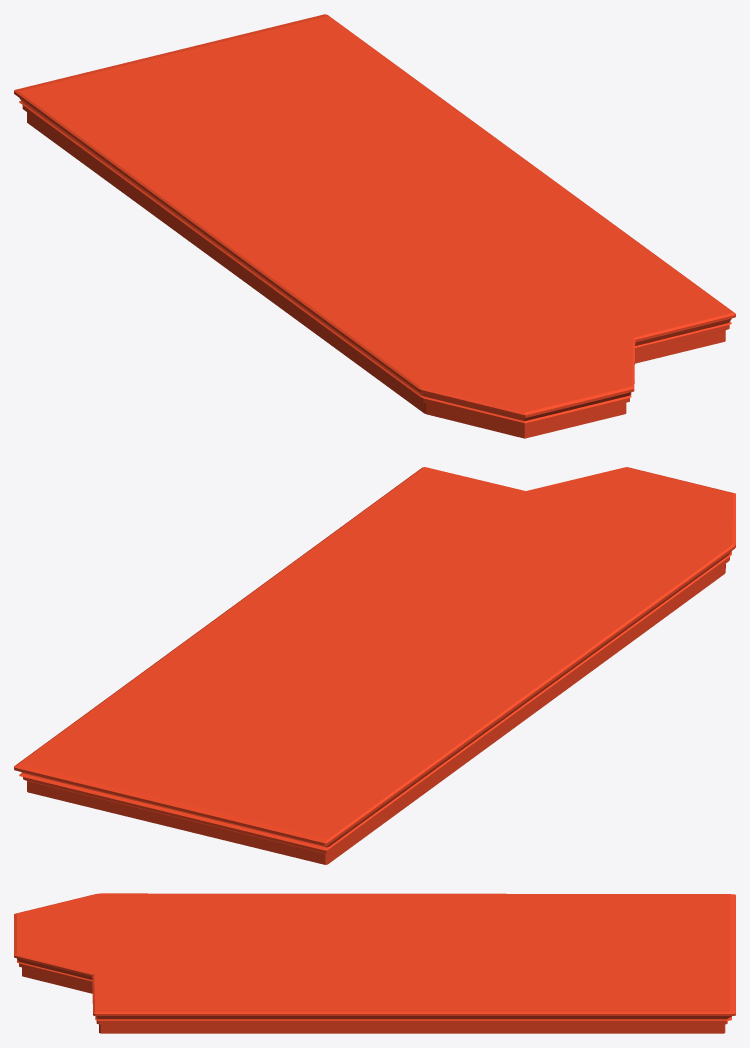
File: SM_Bayhouse_Roof_A_City.fbx
The picture shows the model from 3 angles, top to bottom: view 1: azimuth 30°, elevation 25°; view 2: azimuth 150°, elevation 25°; view 3: azimuth 270°, elevation 25°; orthographic projection. The views are drawn at different scales.
Parts seen in each view (by area): view 1: SM_Bayhouse_Roof_A_City; view 2: SM_Bayhouse_Roof_A_City; view 3: SM_Bayhouse_Roof_A_City.
Part boxes in pixels (x1,y1,x2,y2): SM_Bayhouse_Roof_A_City: [14, 14, 735, 438]; SM_Bayhouse_Roof_A_City: [14, 467, 735, 864]; SM_Bayhouse_Roof_A_City: [14, 893, 735, 1033].
Bounding box in the file's own units: 6.39 × 0.5688 × 16.21.
